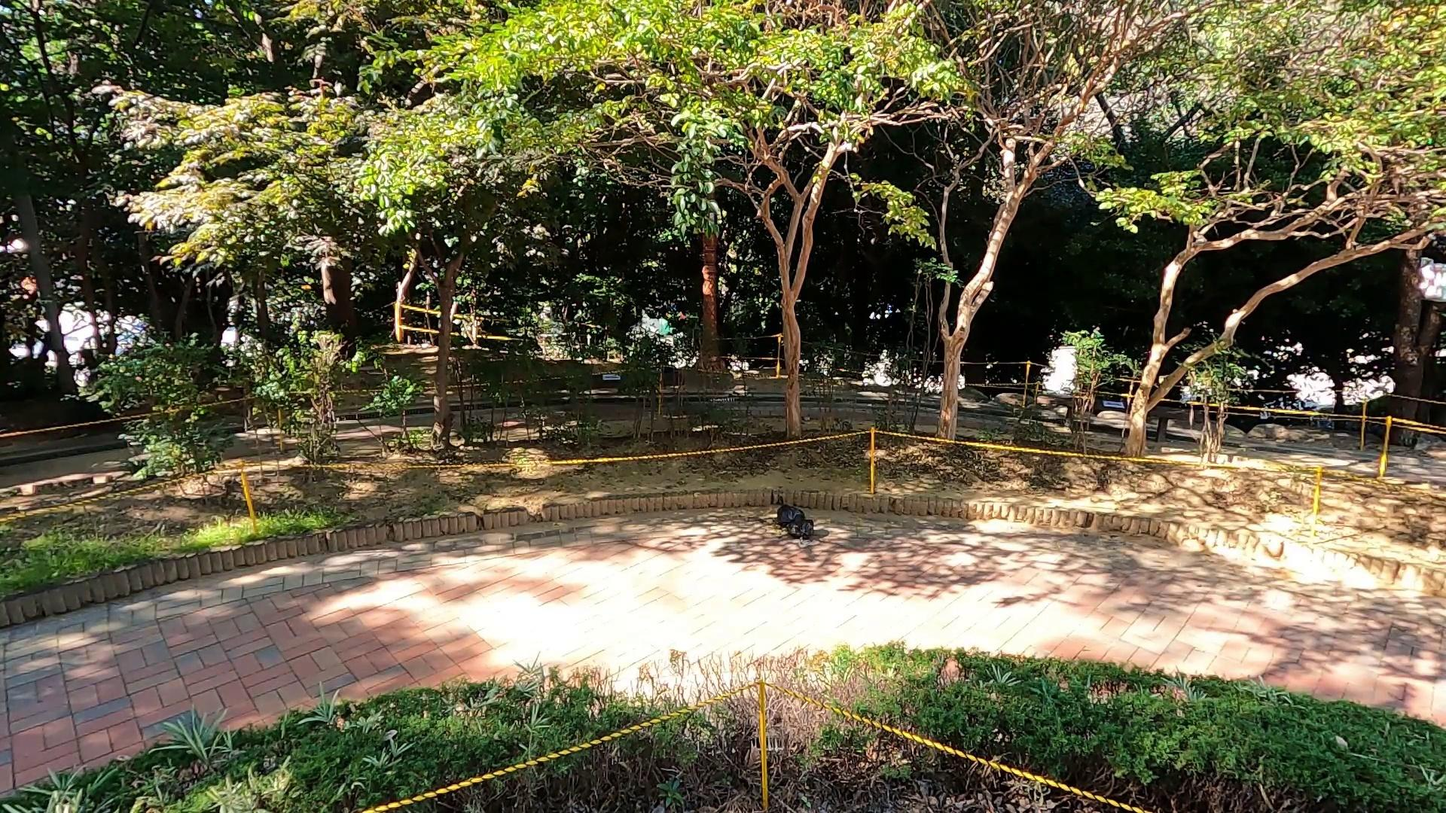trash: (786, 517, 816, 544), (776, 504, 805, 529)
